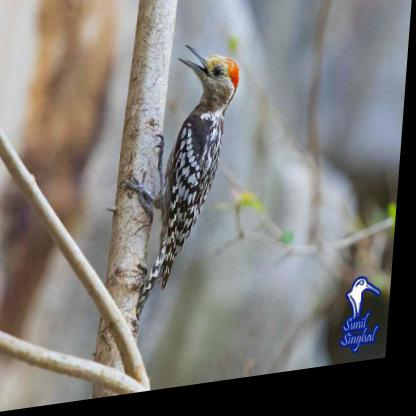Burung: (118, 44, 242, 341)
